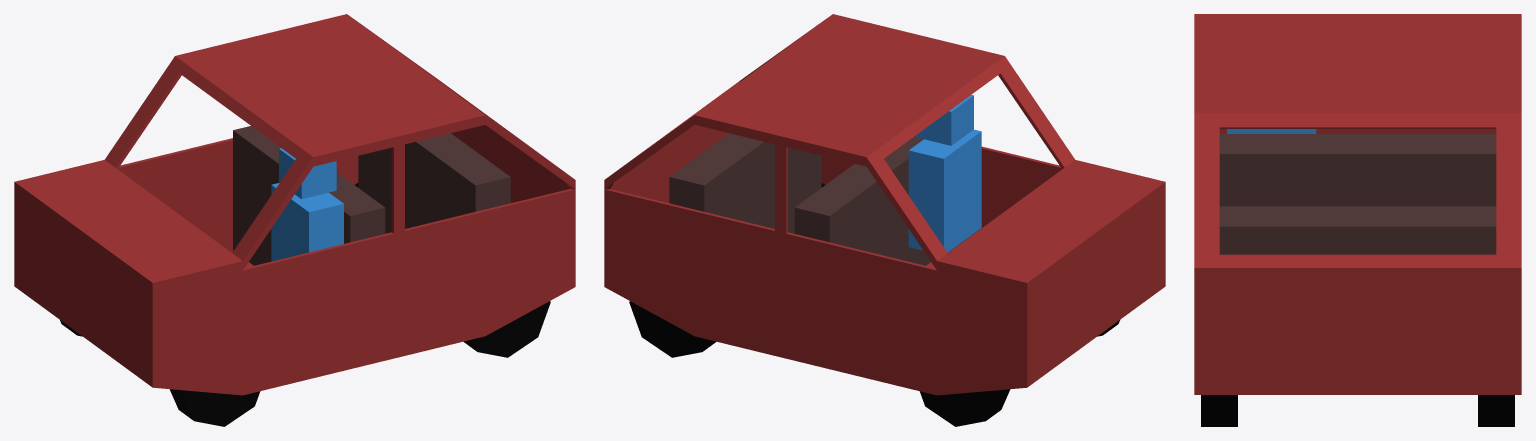
File: car.fbx
3 views of the same model, side by side, from view 1: azimuth 30°, elevation 25°; view 2: azimuth 150°, elevation 25°; view 3: azimuth 270°, elevation 25° (orthographic). The views are drawn at different scales.
Visible parts, largest first — view 1: Car; view 2: Car; view 3: Car.
Boxes of the visible parts, box(x1,y1,x2,y2) form: Car: box(14, 14, 575, 426); Car: box(604, 14, 1165, 426); Car: box(1194, 14, 1521, 426).
Size of the model in its own units: 300 by 170 by 170.
